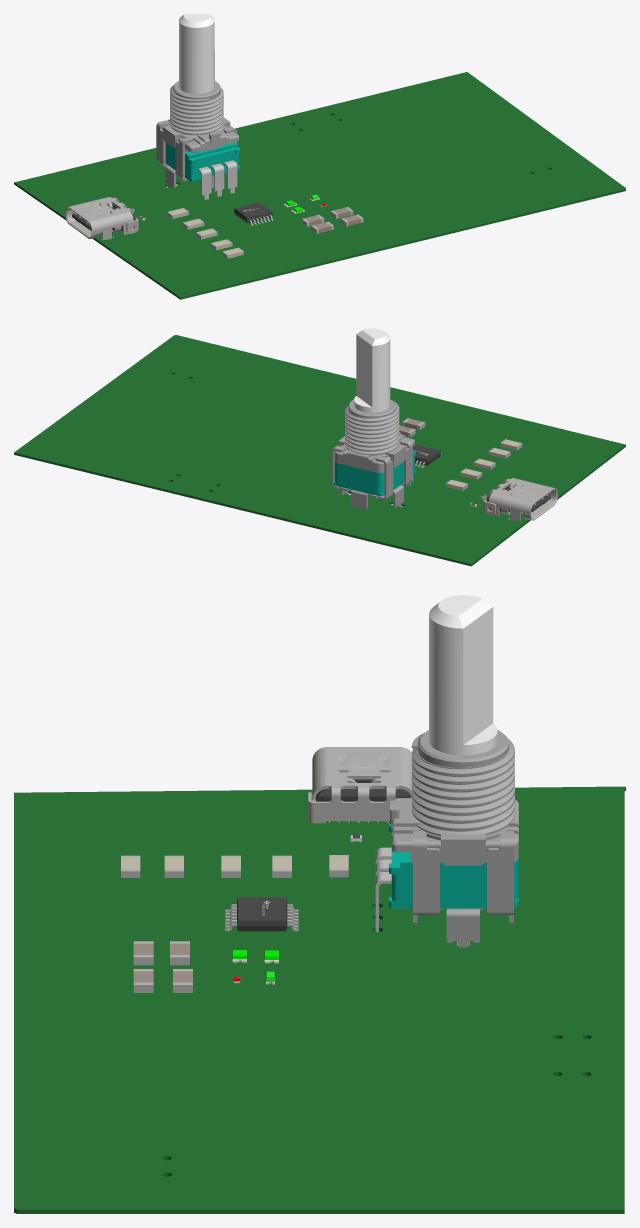
File: dashboard-pcb.glb
3 renders of one model, top to bottom at view 1: azimuth 30°, elevation 25°; view 2: azimuth 150°, elevation 25°; view 3: azimuth 270°, elevation 25°, orthographic. The views are drawn at different scales.
Visible parts, largest first — view 1: Open CASCADE STEP translator 7.5 1.1.1, board, Texas Instruments CD40106BPWR 1; view 2: Open CASCADE STEP translator 7.5 1.1.1, board, Texas Instruments CD40106BPWR 1; view 3: Open CASCADE STEP translator 7.5 1.1.1, board, Texas Instruments CD40106BPWR 1.
Part boxes in pixels (box(x1,y1,x2,y2)): Open CASCADE STEP translator 7.5 1.1.1: box(14, 72, 625, 299); board: box(65, 14, 319, 239); Texas Instruments CD40106BPWR 1: box(234, 202, 272, 223); Open CASCADE STEP translator 7.5 1.1.1: box(14, 335, 625, 566); board: box(331, 328, 557, 521); Texas Instruments CD40106BPWR 1: box(413, 444, 440, 465); Open CASCADE STEP translator 7.5 1.1.1: box(14, 786, 625, 1213); board: box(232, 595, 518, 984); Texas Instruments CD40106BPWR 1: box(237, 897, 287, 931).
Bounding box in the file's own units: 87.98 × 33.5 × 53.34.
